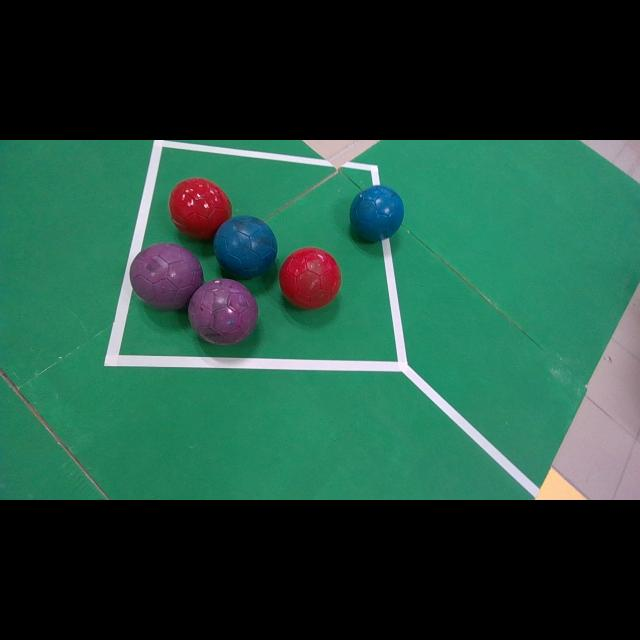B: (214, 215, 278, 279), (350, 185, 404, 241)
P: (129, 242, 202, 310), (188, 279, 258, 345)
R: (169, 178, 232, 239), (279, 248, 341, 309)
